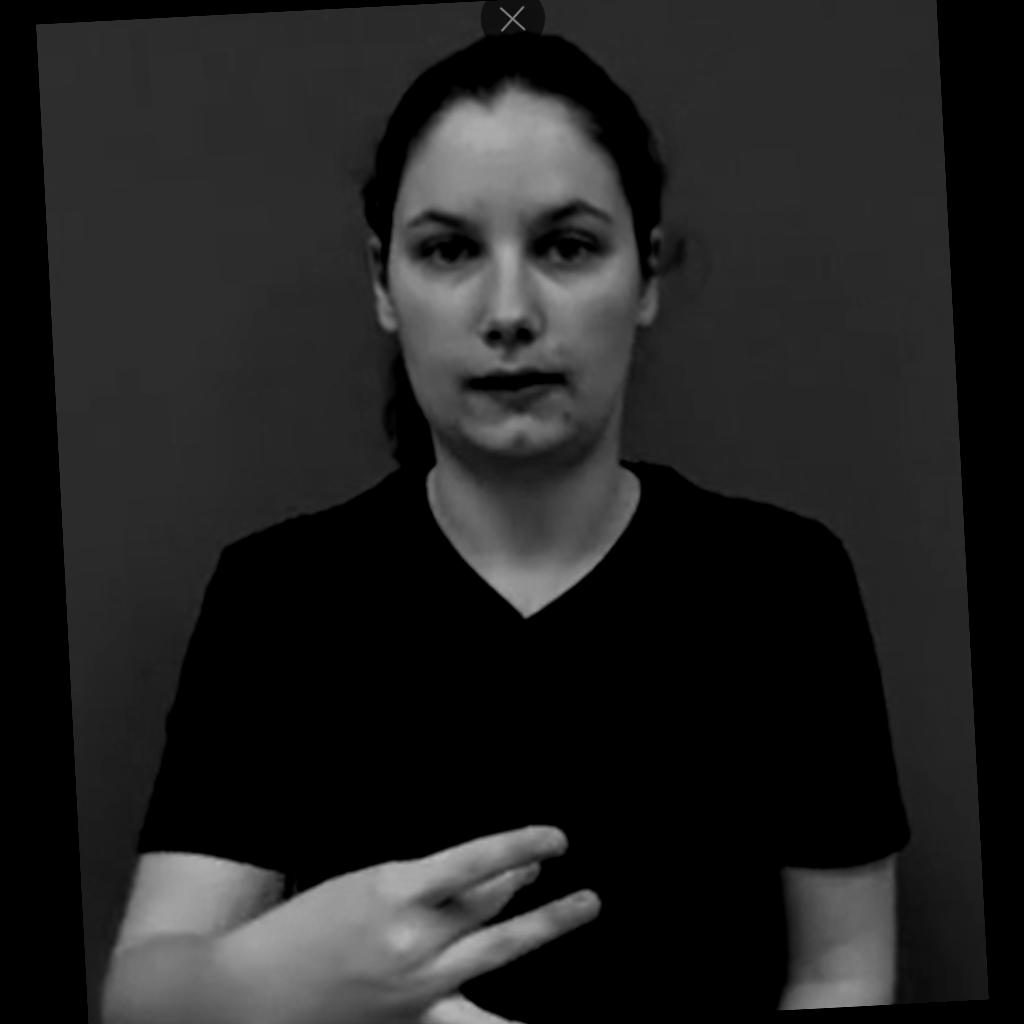like: (220, 821, 608, 1024)
